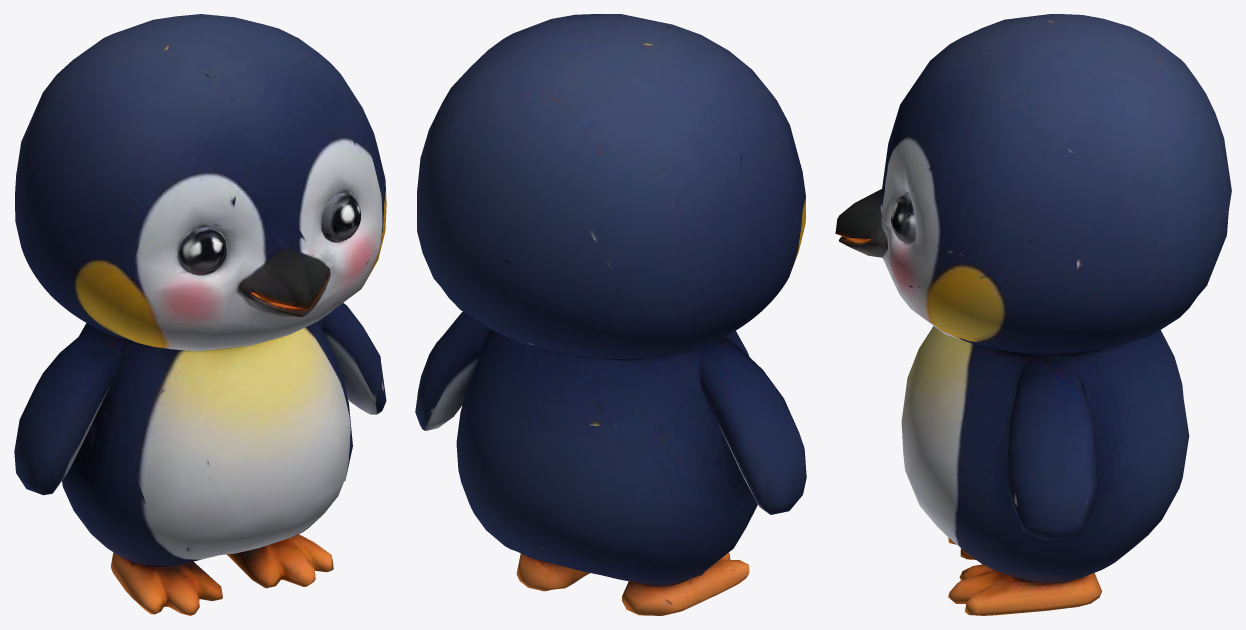
Rendered from animal_penguin.glb.
The picture shows the model from 3 angles, left to right: view 1: azimuth 30°, elevation 25°; view 2: azimuth 150°, elevation 25°; view 3: azimuth 270°, elevation 25°; orthographic projection. The views are drawn at different scales.
Parts seen in each view (by area): view 1: node_0; view 2: node_0; view 3: node_0.
Part boxes in pixels (x1=…): node_0: x1=14, y1=14, x2=386, y2=615; node_0: x1=415, y1=14, x2=806, y2=615; node_0: x1=835, y1=14, x2=1231, y2=615.
Bounding box in the file's own units: 0.7805 × 1.12 × 0.7461.
Materials: 1 (1 with a texture image).
